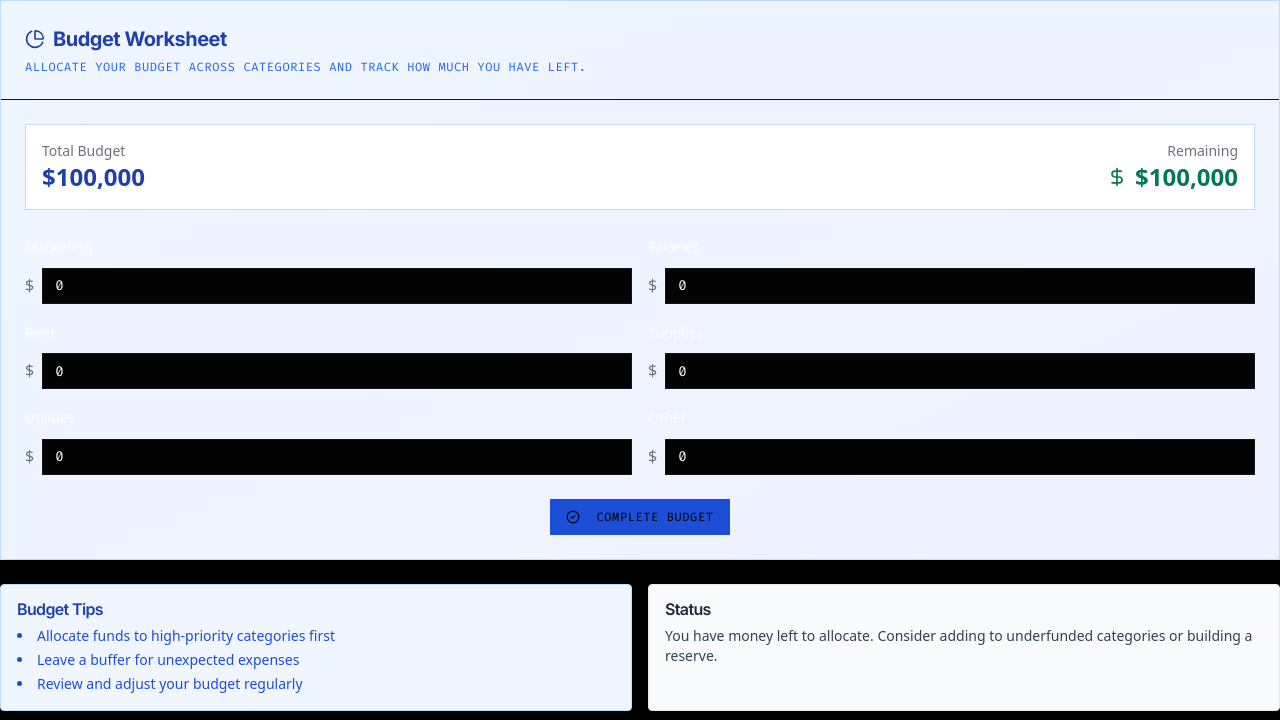
Test: BudgetWorksheet › shows over-budget warning when allocations exceed total
This screenshot has width=1280, height=720.
Step 1. Replace the text in the number field labelled "Marketing" with "150000" → (337, 286), box [42, 268, 632, 304]
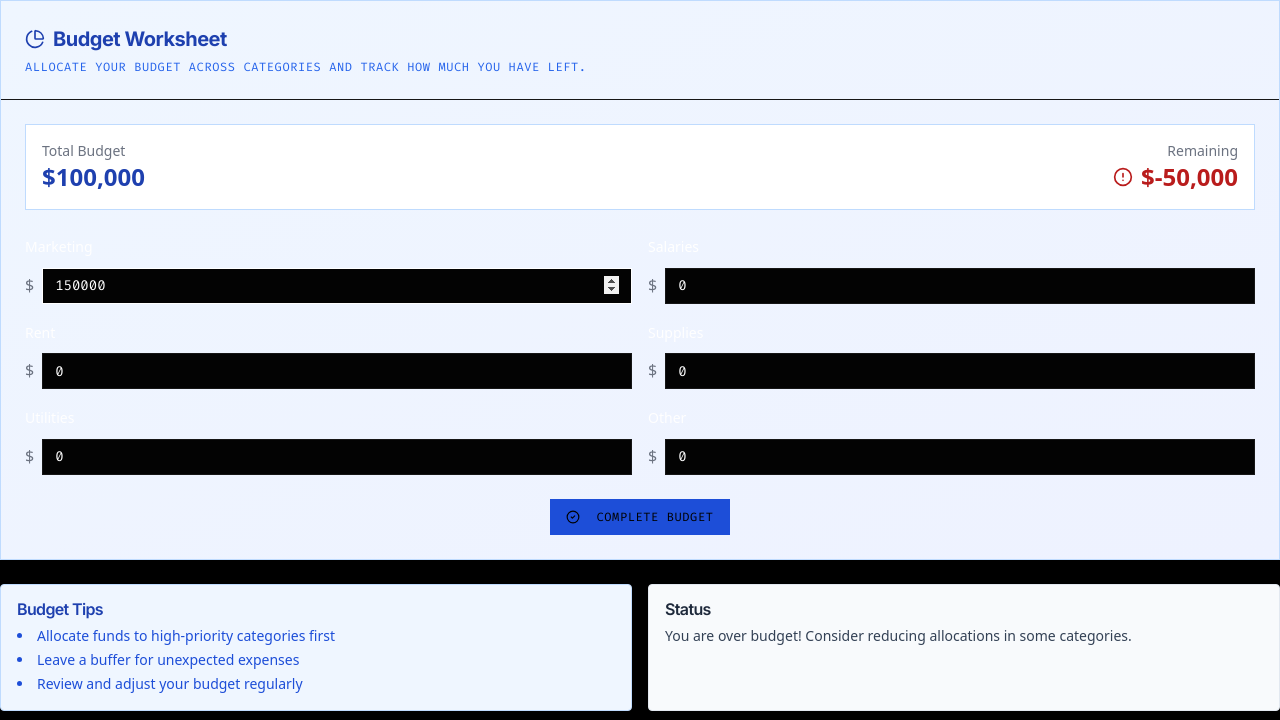
Check: the text "You are over budget" is shown, box [665, 626, 1132, 645]
